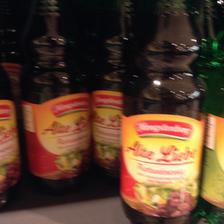Essig: (121, 1, 197, 222), (18, 0, 93, 188)
